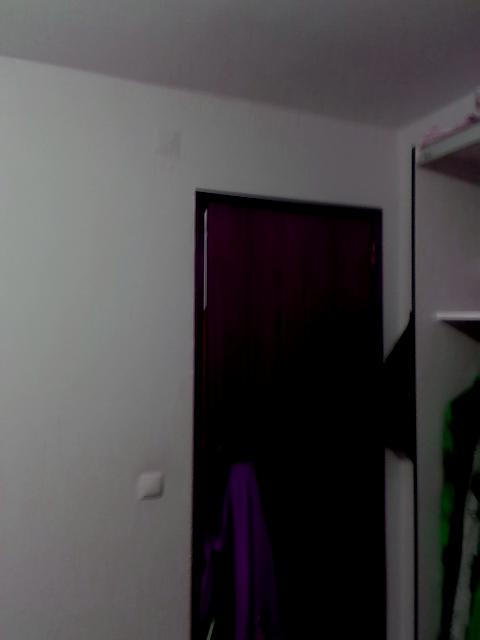closed_door: (190, 188, 384, 638)
